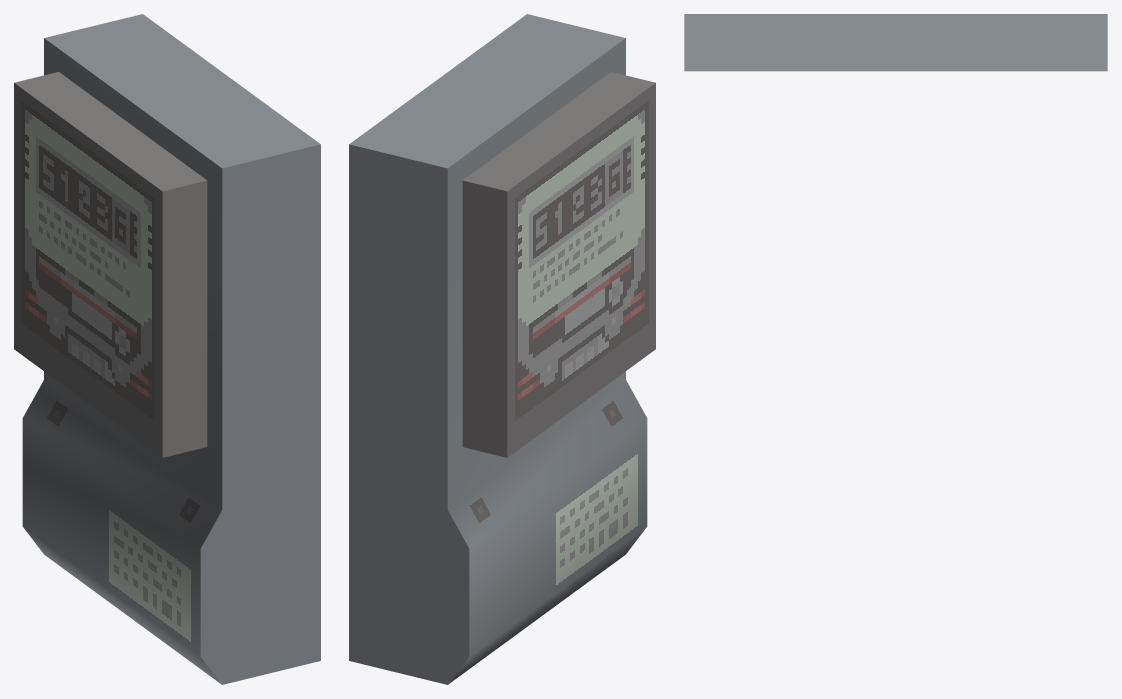
The model's file is kd_stage_135d18_4_66.glb.
The picture shows the model from 3 angles, left to right: view 1: azimuth 30°, elevation 25°; view 2: azimuth 150°, elevation 25°; view 3: azimuth 270°, elevation 25°; orthographic projection. The views are drawn at different scales.
Parts seen in each view (by area): view 1: kd_stage_135d18_4_66; view 2: kd_stage_135d18_4_66; view 3: kd_stage_135d18_4_66.
Boxes of the visible parts, x1=… form: kd_stage_135d18_4_66: x1=14, y1=14, x2=320, y2=684; kd_stage_135d18_4_66: x1=349, y1=14, x2=655, y2=684; kd_stage_135d18_4_66: x1=684, y1=14, x2=1107, y2=71.
Bounding box in the file's own units: 0.1164 × 0.4 × 0.25.
Materials: 1 (1 with a texture image).
